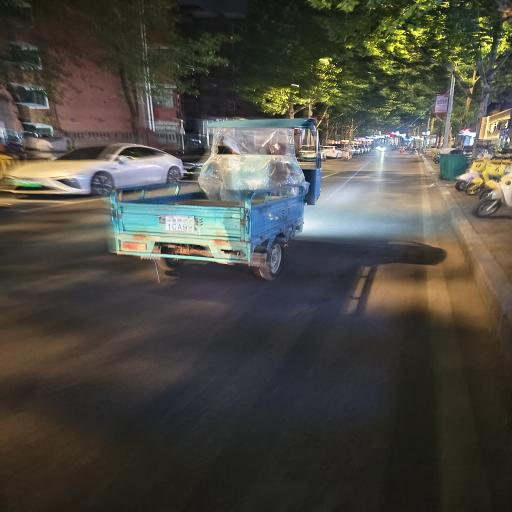car: (52, 63, 165, 342), (0, 41, 2, 240)
